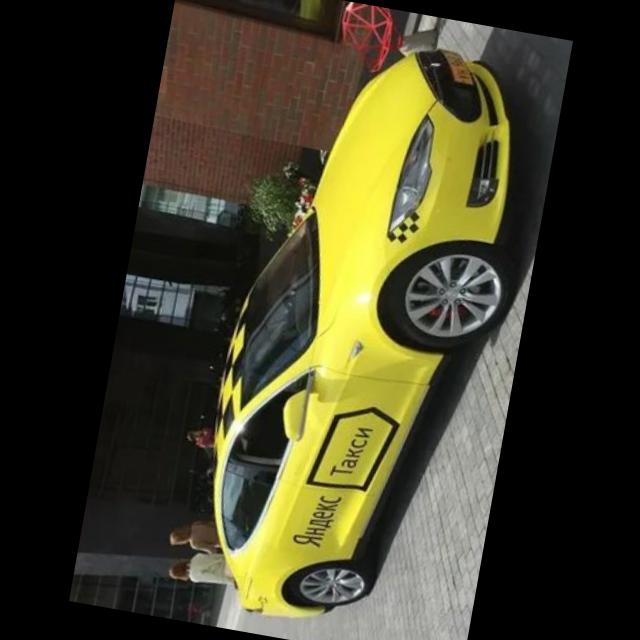taxi: (178, 20, 553, 640)
